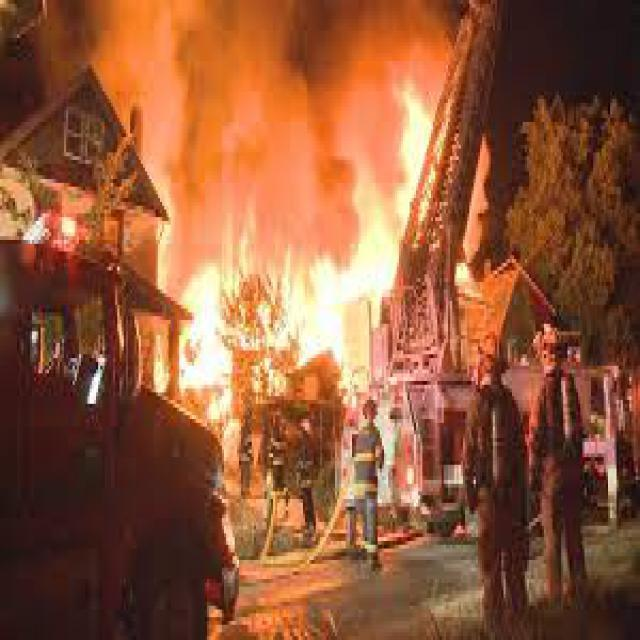Fire: (148, 224, 392, 384), (358, 86, 448, 231)
Smoke: (80, 1, 348, 204), (349, 5, 499, 90)
